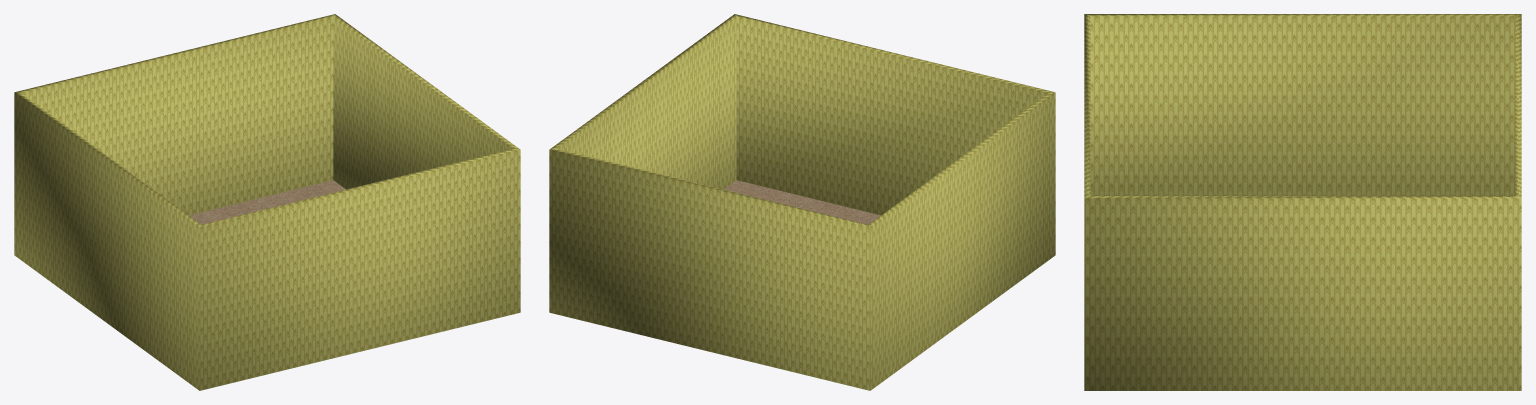
File: room1.obj
3 renders of one model, left to right at view 1: azimuth 30°, elevation 25°; view 2: azimuth 150°, elevation 25°; view 3: azimuth 270°, elevation 25°, orthographic. The views are drawn at different scales.
Visible parts, largest first — view 1: Outer_Wall_Cube.002; view 2: Outer_Wall_Cube.002; view 3: Outer_Wall_Cube.002.
Boxes of the visible parts, x1,y1,x2,y2 form: Outer_Wall_Cube.002: (14,14,520,390); Outer_Wall_Cube.002: (549,14,1055,390); Outer_Wall_Cube.002: (1084,14,1521,390).
Bounding box in the file's own units: 20.6 × 10 × 20.6.
